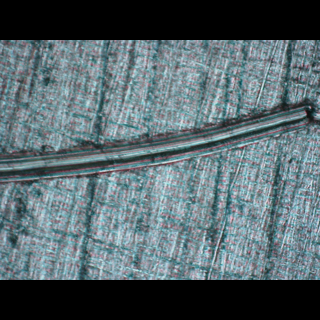d: (0, 96, 318, 188)
